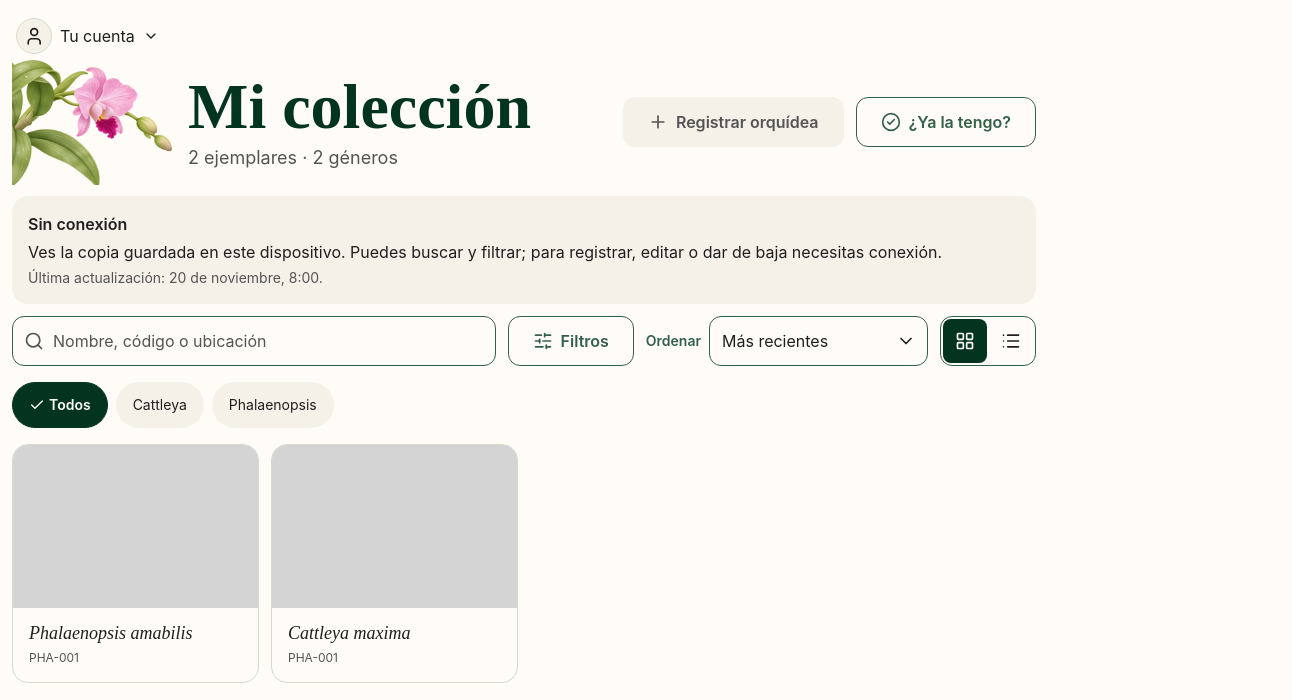
sin conexión, abriendo la app desde cero › cerrar sesión sin conexión borra la copia, el usuario recordado y las miniaturas
Click the button "Tu cuenta" at point(91, 36), box x1=12 y1=12 x2=171 y2=60
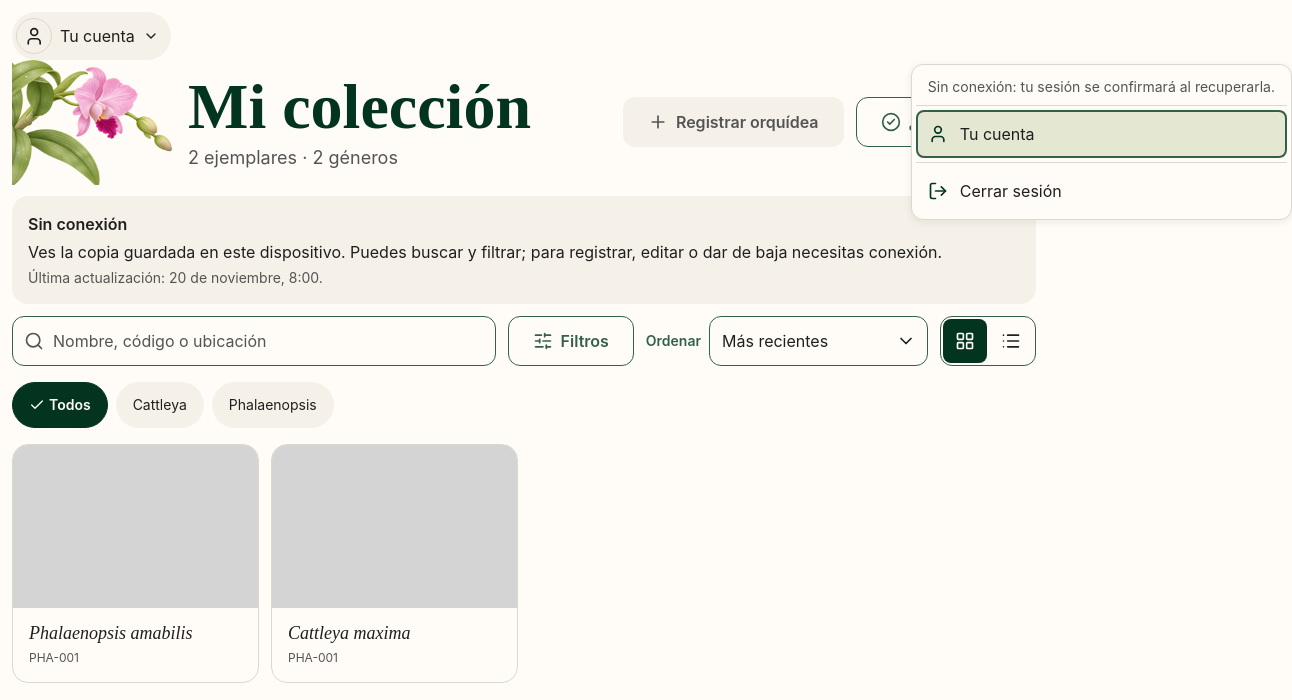
Click the menu item "Cerrar sesión" at point(1011, 191), box x1=916 y1=167 x2=1287 y2=215
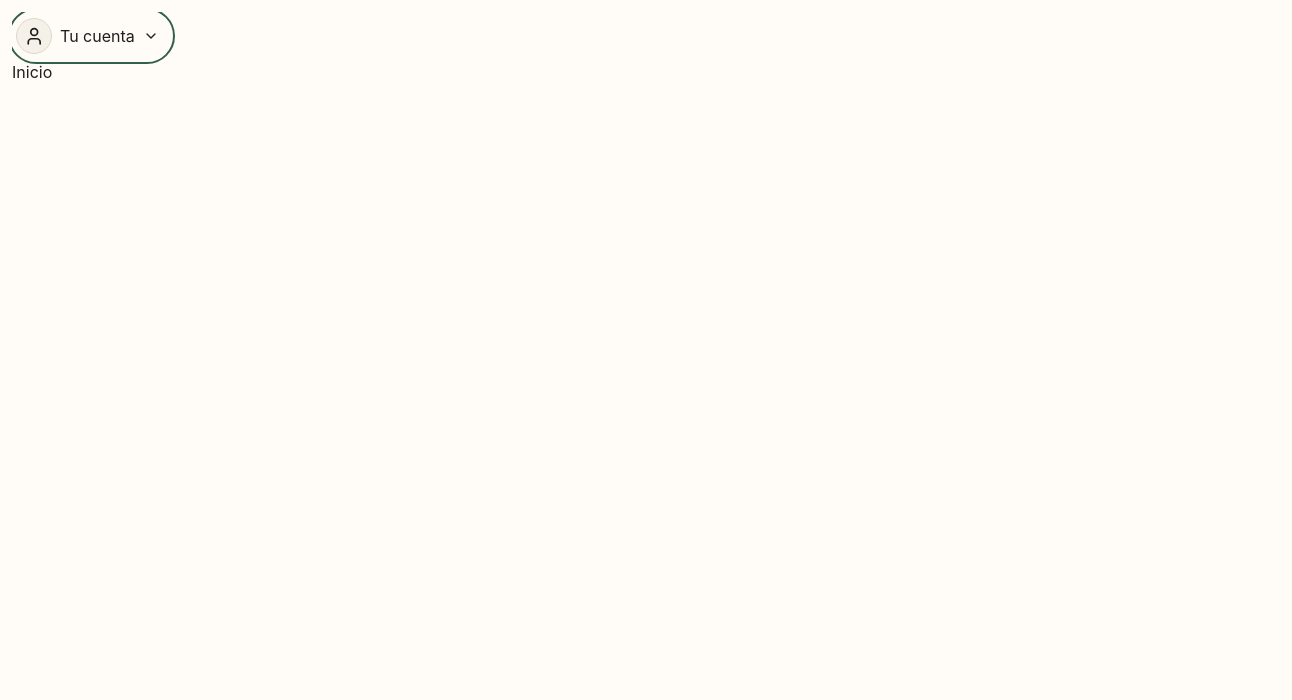
Expected: the text "Inicio" is shown, x1=12 y1=62 x2=52 y2=82
